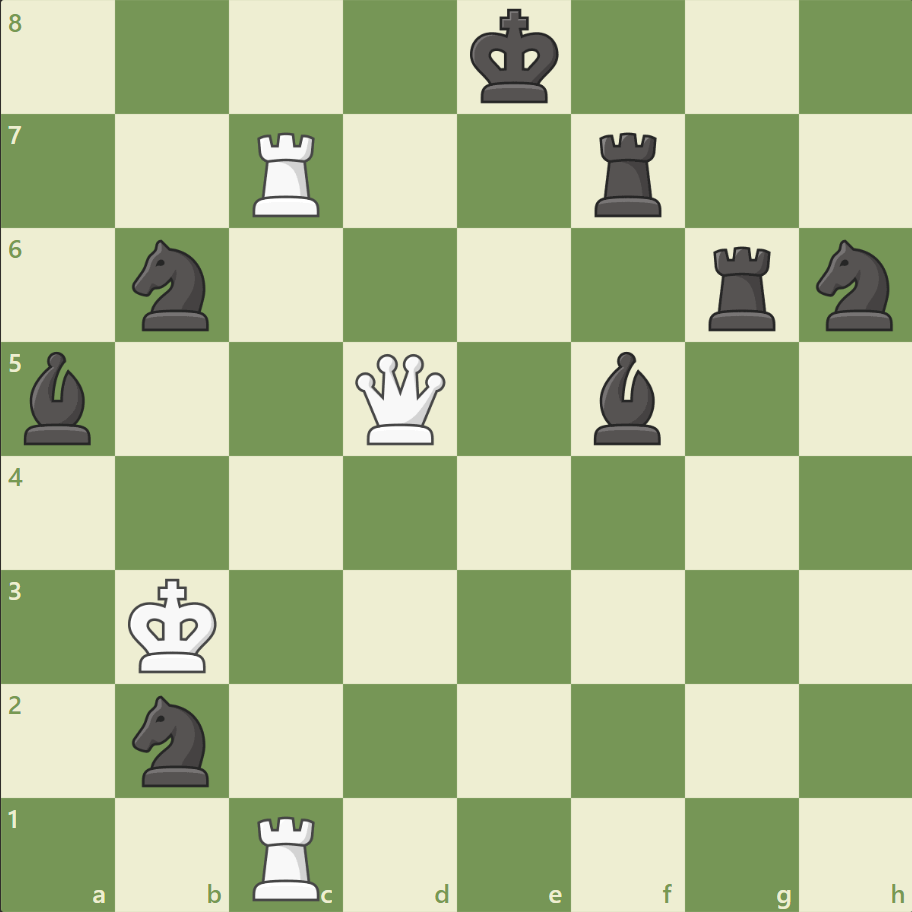K: (124, 571, 224, 679)
Q: (351, 349, 450, 449)
R: (246, 806, 329, 904), (246, 125, 329, 222)
b: (17, 347, 101, 449), (585, 347, 669, 449)
k: (465, 4, 565, 112)
n: (124, 234, 222, 337), (124, 688, 222, 791), (806, 234, 903, 337)
r: (587, 125, 670, 222), (700, 239, 783, 336)
